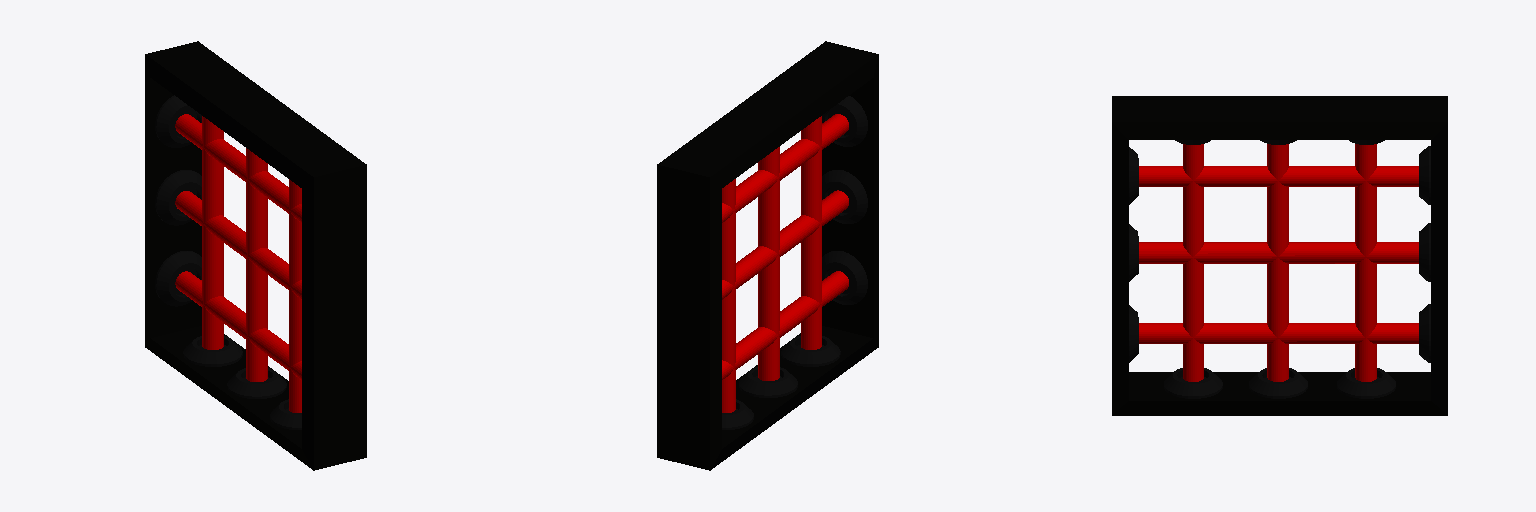
The model's file is LASERS.obj.
The picture shows the model from 3 angles: view 1: azimuth 30°, elevation 25°; view 2: azimuth 150°, elevation 25°; view 3: azimuth 270°, elevation 25°; orthographic projection.
Parts seen in each view (by area): view 1: Cube, Cylinder.012_Cylinder.020, Cylinder.015, Cylinder.019, Cylinder.016_Cylinder.023, Cylinder.014_Cylinder.022, Cylinder.013_Cylinder.021, Cylinder.007_Cylinder.027, Cylinder.008_Cylinder.028, Cylinder.006_Cylinder.026, Cylinder, Cylinder.001_Cylinder.024 (+1 smaller); view 2: Cube, Cylinder.012_Cylinder.020, Cylinder.013_Cylinder.021, Cylinder.015, Cylinder.014_Cylinder.022, Cylinder.019, Cylinder.016_Cylinder.023, Cylinder.010_Cylinder.030, Cylinder.011_Cylinder.031, Cylinder.002_Cylinder.025, Cylinder.009_Cylinder.029, Cylinder.001_Cylinder.024 (+1 smaller); view 3: Cube, Cylinder.014_Cylinder.022, Cylinder.019, Cylinder.016_Cylinder.023, Cylinder.012_Cylinder.020, Cylinder.015, Cylinder.013_Cylinder.021, Cylinder.002_Cylinder.025, Cylinder, Cylinder.001_Cylinder.024, Cylinder.006_Cylinder.026, Cylinder.007_Cylinder.027 (+1 smaller).
Boxes of the visible parts, box(x1,y1,x2,y2) form: Cube: box(145, 41, 366, 470); Cylinder.012_Cylinder.020: box(246, 148, 267, 381); Cylinder.015: box(202, 116, 223, 349); Cylinder.019: box(175, 114, 301, 222); Cylinder.016_Cylinder.023: box(175, 271, 301, 379); Cylinder.014_Cylinder.022: box(175, 191, 301, 299); Cylinder.013_Cylinder.021: box(289, 179, 301, 412); Cylinder.007_Cylinder.027: box(155, 170, 201, 225); Cylinder.008_Cylinder.028: box(155, 251, 201, 306); Cylinder.006_Cylinder.026: box(155, 95, 201, 147); Cylinder: box(183, 336, 242, 366); Cylinder.001_Cylinder.024: box(227, 368, 286, 398); Cube: box(657, 41, 878, 470); Cylinder.012_Cylinder.020: box(758, 147, 779, 380); Cylinder.013_Cylinder.021: box(801, 116, 821, 349); Cylinder.015: box(722, 179, 735, 412); Cylinder.014_Cylinder.022: box(722, 190, 848, 299); Cylinder.019: box(722, 114, 848, 222); Cylinder.016_Cylinder.023: box(722, 271, 848, 379); Cylinder.010_Cylinder.030: box(822, 170, 867, 223); Cylinder.011_Cylinder.031: box(822, 251, 867, 304); Cylinder.002_Cylinder.025: box(781, 336, 840, 366); Cylinder.009_Cylinder.029: box(822, 96, 867, 146); Cylinder.001_Cylinder.024: box(739, 367, 797, 397); Cube: box(1112, 96, 1447, 415); Cylinder.014_Cylinder.022: box(1139, 242, 1418, 263); Cylinder.019: box(1139, 166, 1418, 186); Cylinder.016_Cylinder.023: box(1139, 323, 1418, 343); Cylinder.012_Cylinder.020: box(1267, 144, 1288, 381); Cylinder.015: box(1355, 144, 1376, 381); Cylinder.013_Cylinder.021: box(1183, 144, 1203, 381); Cylinder.002_Cylinder.025: box(1164, 368, 1222, 398); Cylinder: box(1337, 368, 1395, 398); Cylinder.001_Cylinder.024: box(1249, 368, 1307, 398); Cylinder.006_Cylinder.026: box(1419, 146, 1430, 204); Cylinder.007_Cylinder.027: box(1419, 223, 1430, 281).
Bounding box in the file's own units: 2.29 × 10.73 × 11.17.